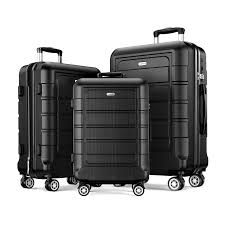suitcase: (109, 27, 209, 190), (17, 47, 101, 192), (70, 71, 151, 196)
